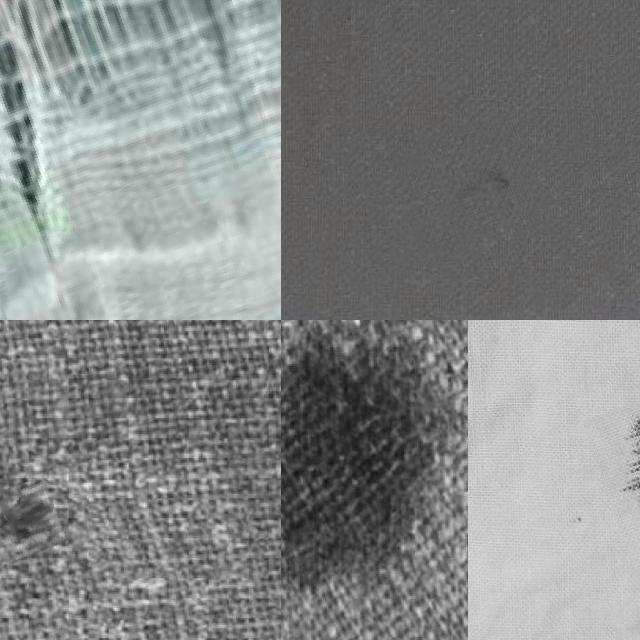Thread_other: (281, 320, 461, 640), (596, 370, 640, 598)
other: (0, 481, 61, 561)
stains: (394, 120, 544, 256)
